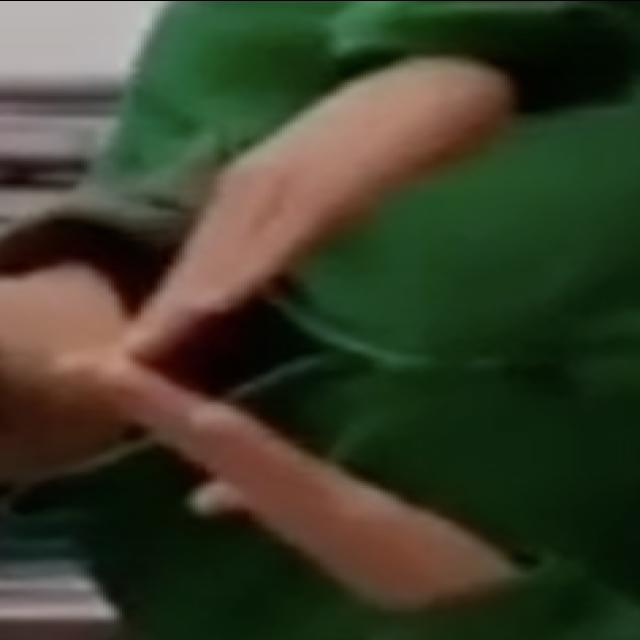casa: (43, 58, 536, 602)
